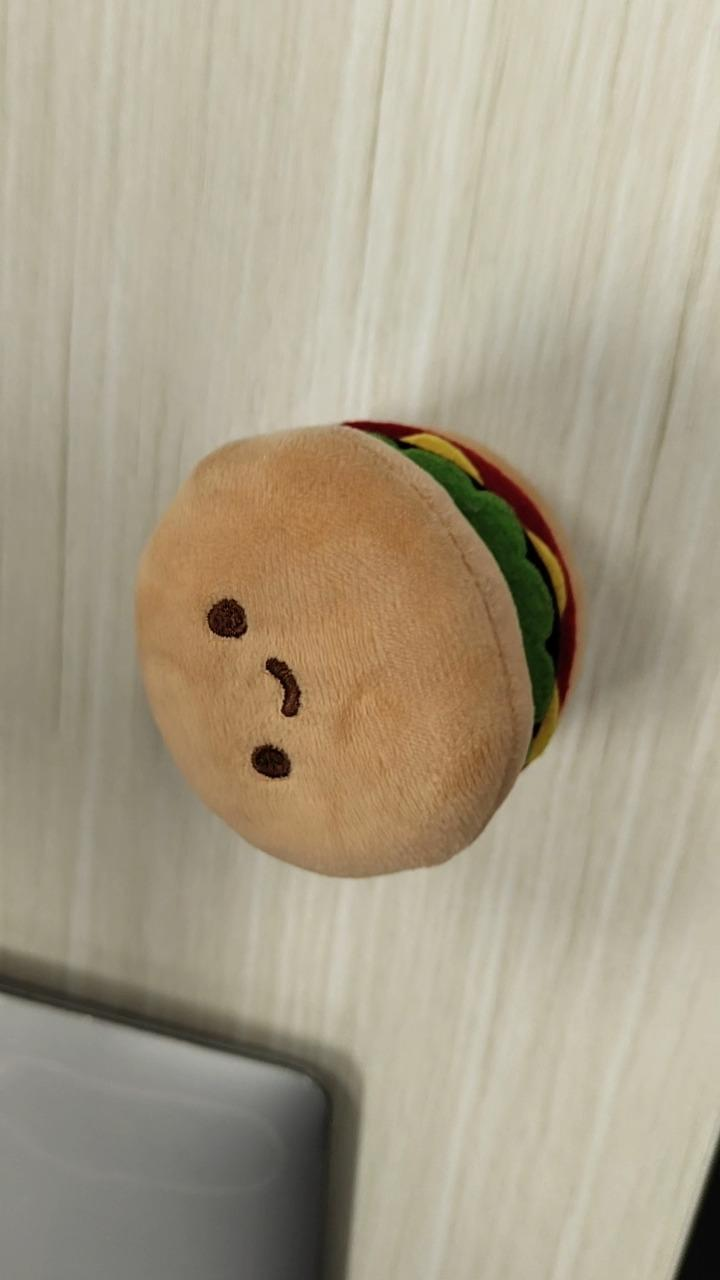hamburger: (133, 416, 584, 879)
